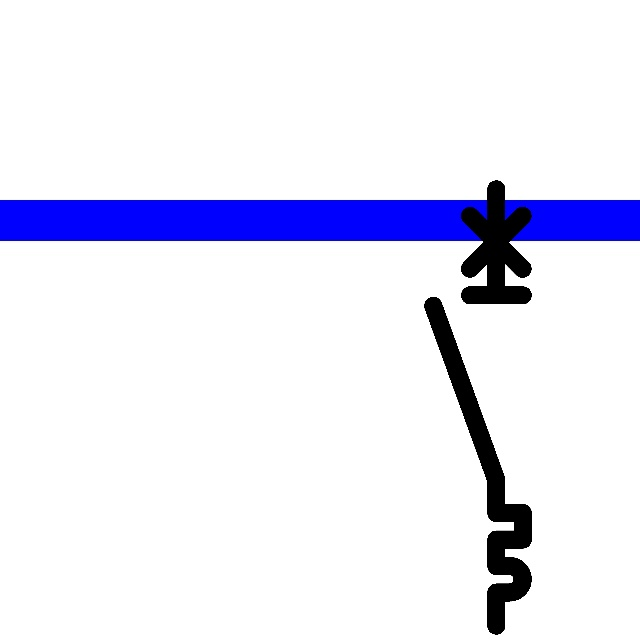interruptor_termomagnetico: (422, 178, 534, 637)
